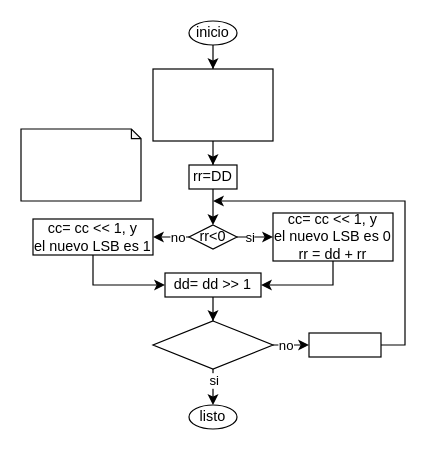
Some shapes in this 436 by 450 pixel diagram are drawn without their labels. Here are the shapes that lost their labels. From the top down, the box of each, then its label:
(152, 68, 273, 141): Si las mantisas DD y/o dd están desnormalizadas, se normalizan
(20, 128, 141, 201): DD = Dividendo dd = Divisor cc = Cociente rr = Resto
(152, 320, 273, 369): ¿repetición 27?
(308, 332, 381, 357): rr= rr - dd
